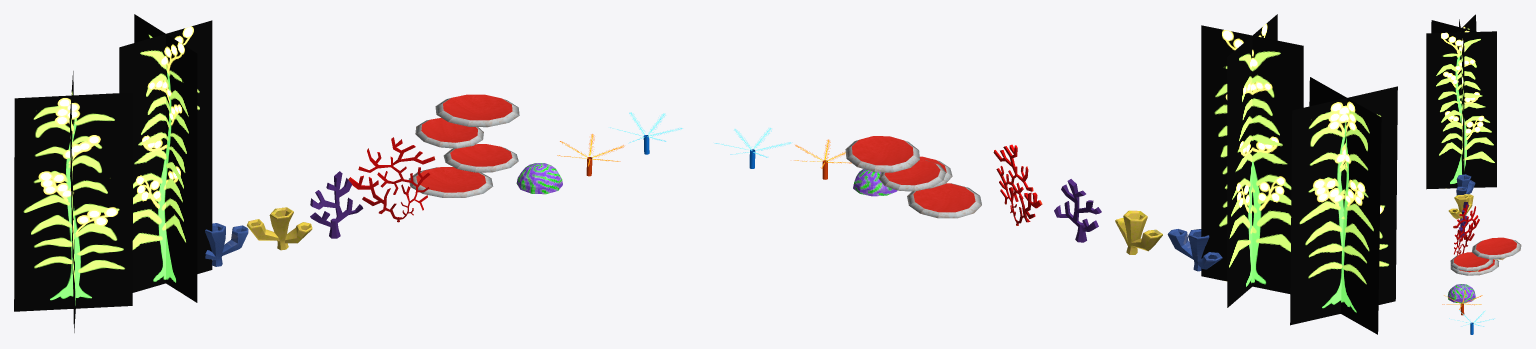
Rendered from bioluminescence_edit_for_FBX.fbx.
3 renders of one model, left to right at view 1: azimuth 30°, elevation 25°; view 2: azimuth 150°, elevation 25°; view 3: azimuth 270°, elevation 25°, orthographic. The views are drawn at different scales.
Parts seen in each view (by area): view 1: plants01, plants02, coral05, coral04, coral02, coral03, coral06, coral01; view 2: plants01, plants02, coral05, coral04, coral01, coral02, coral03, coral06; view 3: plants02, coral05, coral04, plants01, coral06, coral02, coral01, coral08, coral07, coral03.
Part boxes in pixels (x1=…): plants01: x1=14, y1=71, x2=132, y2=332; plants02: x1=119, y1=14, x2=212, y2=302; coral05: x1=408, y1=94, x2=519, y2=197; coral04: x1=348, y1=137, x2=435, y2=222; coral02: x1=247, y1=207, x2=312, y2=250; coral03: x1=310, y1=171, x2=363, y2=238; coral06: x1=516, y1=163, x2=562, y2=194; coral01: x1=205, y1=223, x2=248, y2=266; plants01: x1=1290, y1=77, x2=1397, y2=334; plants02: x1=1201, y1=14, x2=1303, y2=307; coral05: x1=845, y1=136, x2=981, y2=218; coral04: x1=993, y1=144, x2=1042, y2=225; coral01: x1=1167, y1=229, x2=1222, y2=271; coral02: x1=1115, y1=210, x2=1162, y2=254; coral03: x1=1054, y1=179, x2=1101, y2=242; coral06: x1=853, y1=169, x2=897, y2=196; plants02: x1=1426, y1=19, x2=1496, y2=189; coral05: x1=1450, y1=237, x2=1521, y2=275; coral04: x1=1453, y1=204, x2=1479, y2=255; plants01: x1=1431, y1=14, x2=1476, y2=33; coral06: x1=1447, y1=284, x2=1475, y2=303; coral02: x1=1448, y1=194, x2=1473, y2=220; coral01: x1=1456, y1=174, x2=1475, y2=195; coral08: x1=1449, y1=310, x2=1494, y2=334; coral07: x1=1442, y1=290, x2=1482, y2=315; coral03: x1=1458, y1=202, x2=1469, y2=237.
Size of the model in its own units: 809 by 298 by 162.
